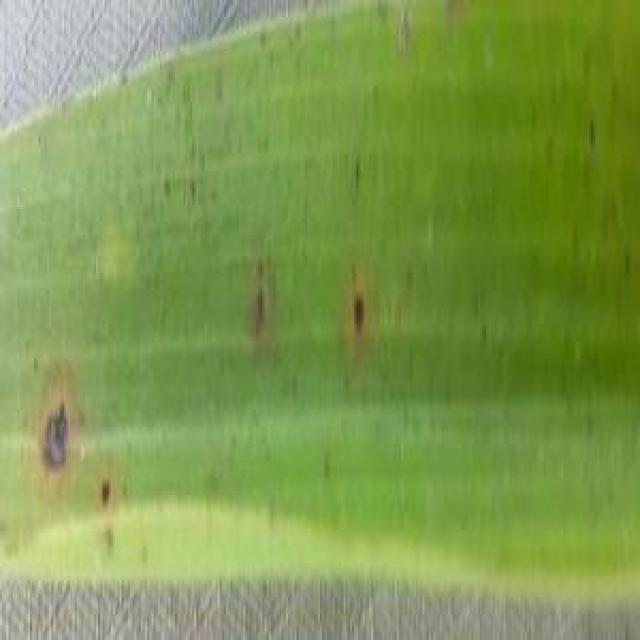Brown_Spot: (27, 395, 84, 480), (336, 277, 387, 345), (240, 282, 284, 330), (94, 482, 118, 508)
